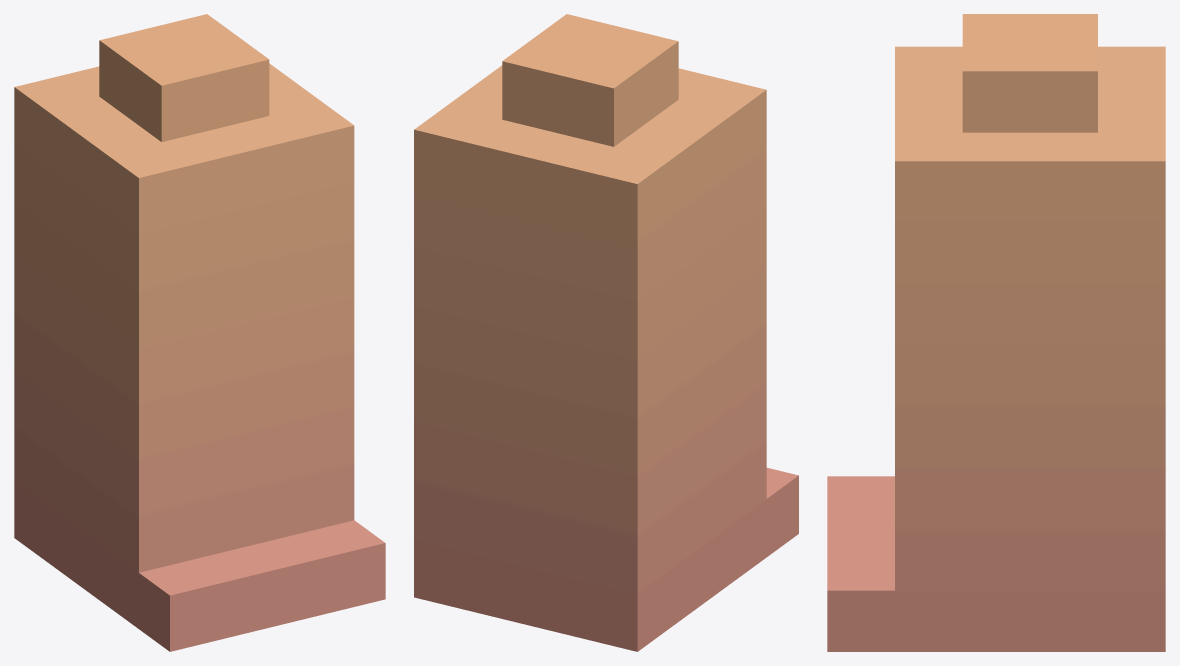
File: Knee020.fbx
3 views of the same model, side by side, from view 1: azimuth 30°, elevation 25°; view 2: azimuth 150°, elevation 25°; view 3: azimuth 270°, elevation 25° (orthographic). The views are drawn at different scales.
Visible parts, largest first — view 1: Knee020; view 2: Knee020; view 3: Knee020.
Part boxes in pixels (x1,y1,x2,y2): Knee020: (14, 14, 385, 651); Knee020: (414, 14, 798, 651); Knee020: (827, 14, 1165, 651).
Bounding box in the file's own units: 4 × 9 × 5.
